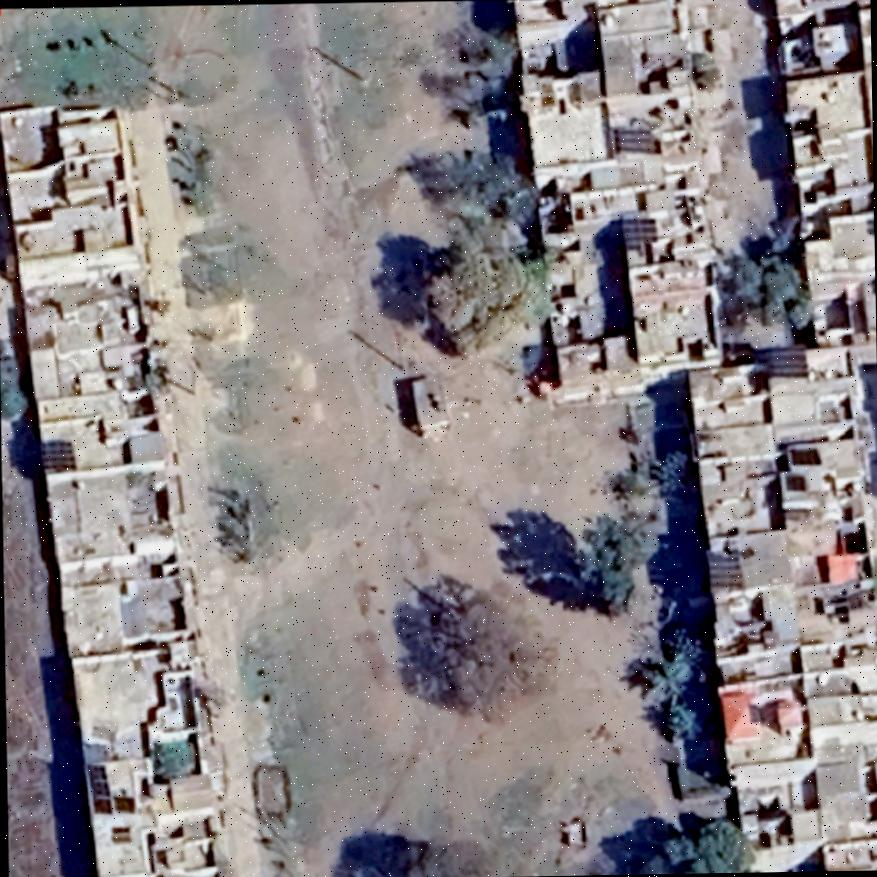Solarpanel: (756, 340, 812, 382), (31, 434, 79, 478), (608, 120, 662, 158), (615, 210, 660, 253), (81, 758, 113, 818), (707, 545, 744, 588)
